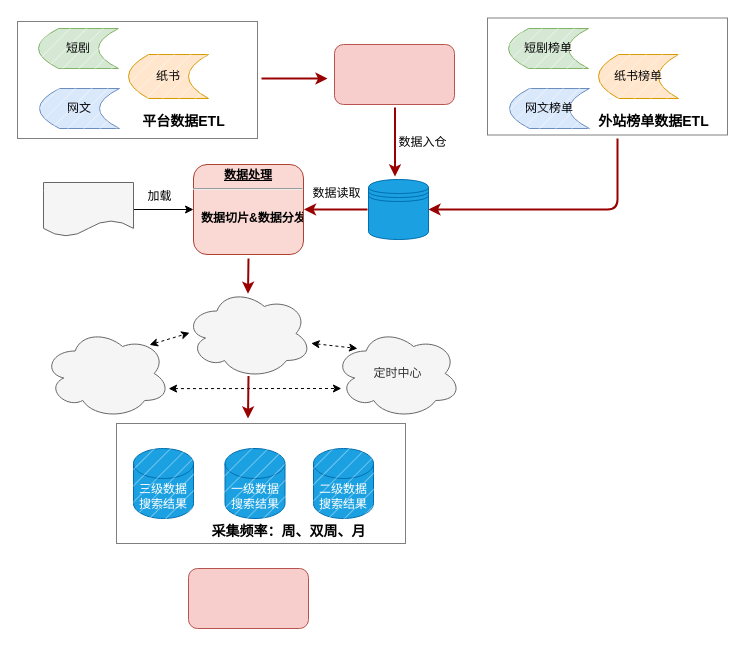
Image size: 745x646. Some labels were removed from this diagram. The centre of each missing label's shape, as x and y in pixels:
执行中心: (x=248, y=333)
数据分级算法/模型: (x=394, y=74)
数据分级结果: (x=398, y=209)
数据匹配对齐模块: (x=248, y=598)
配置中心: (x=106, y=373)
配置文件: (x=88, y=209)
